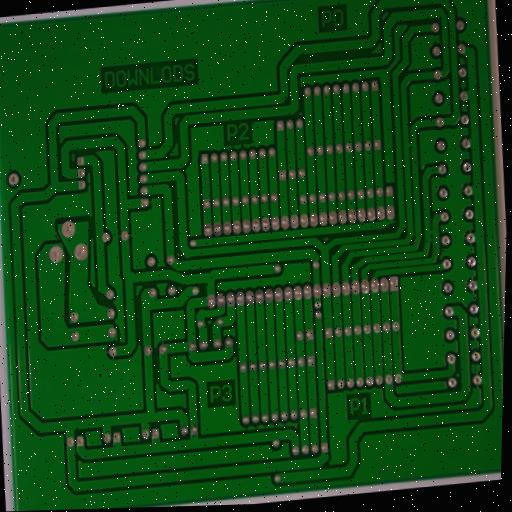short_circuit: (401, 132, 420, 158), (424, 221, 440, 243), (342, 268, 358, 287)
